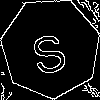S: (25, 23, 70, 77)
